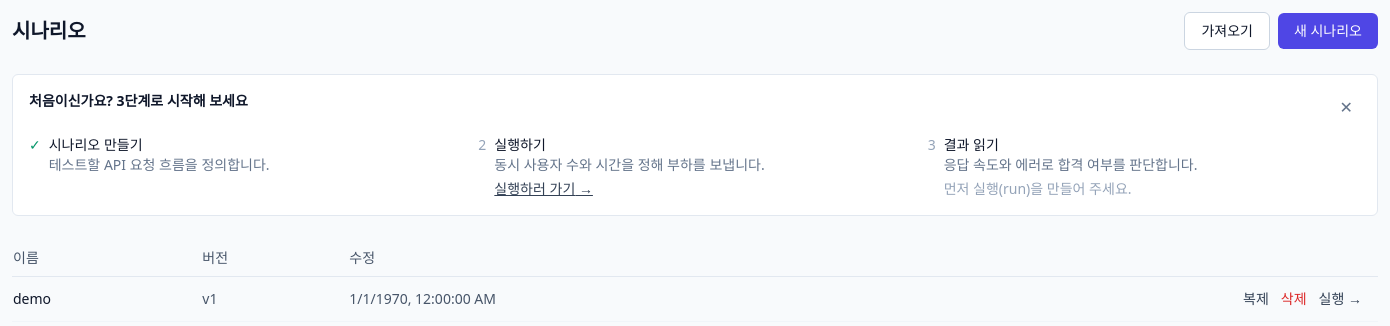
ScenarioListPage delete › 삭제 진행 중엔 행 삭제 버튼 disabled (R6 pending)
Expected: the link "demo" is shown, x1=13 y1=289 x2=51 y2=308
Step 1. Click the button "삭제" → (1294, 299), box x1=1281 y1=289 x2=1307 y2=309
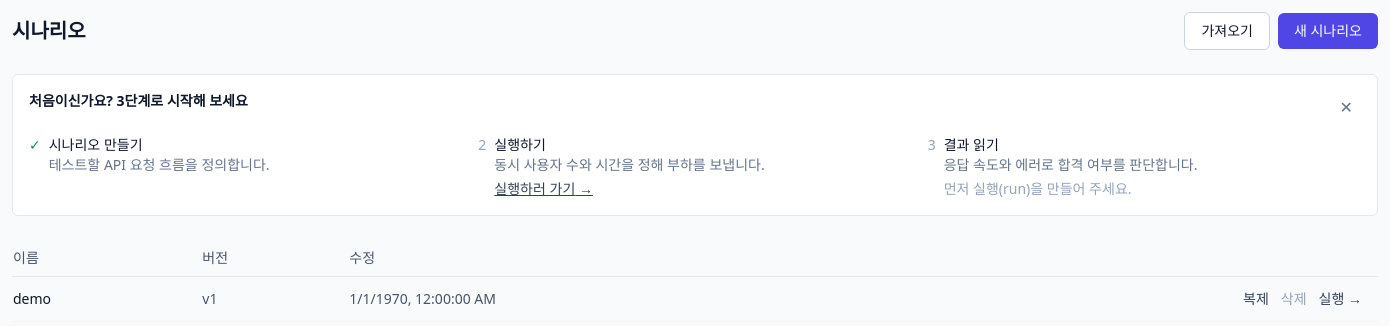
Expected: the button "삭제" is disabled, x1=1281 y1=289 x2=1307 y2=309
